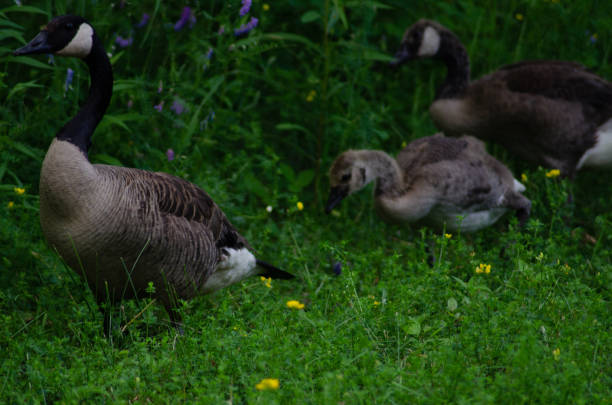goose: (12, 13, 300, 336), (381, 15, 612, 187), (318, 129, 545, 238)
